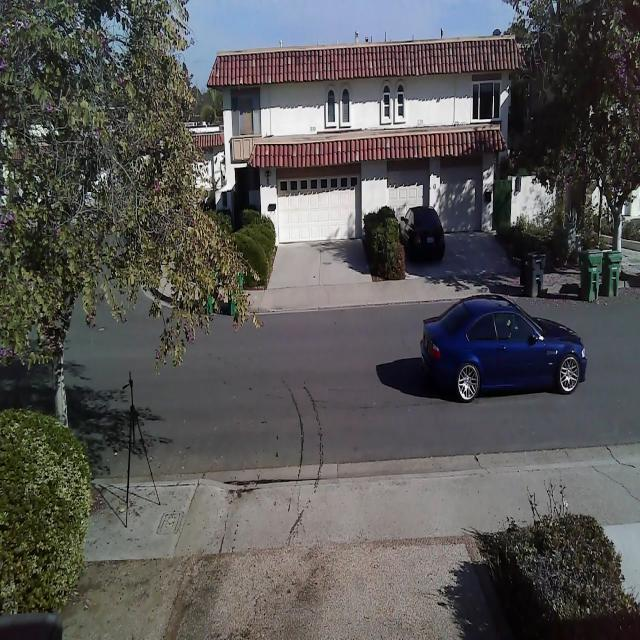Carbeetle: (416, 290, 591, 411)
Civilian: (397, 206, 445, 264)
